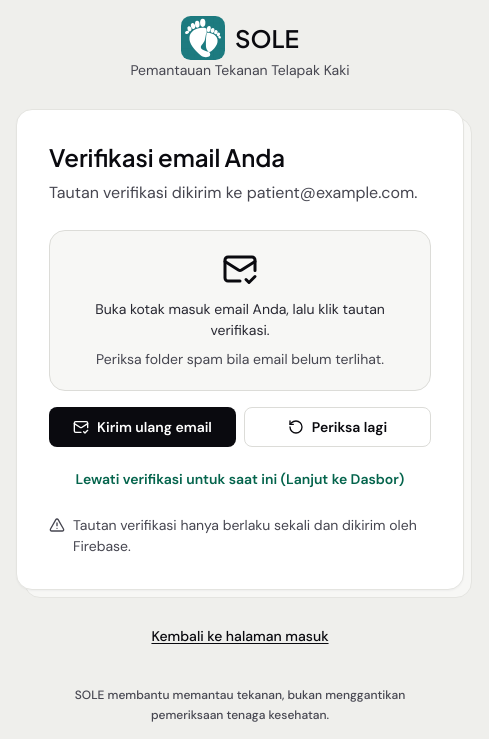
Test: VerifyEmailPage › shows the address Firebase mailed and offers a resend
Click the button "Kirim ulang email" at (142, 427), box left=49, top=407, right=236, bottom=447
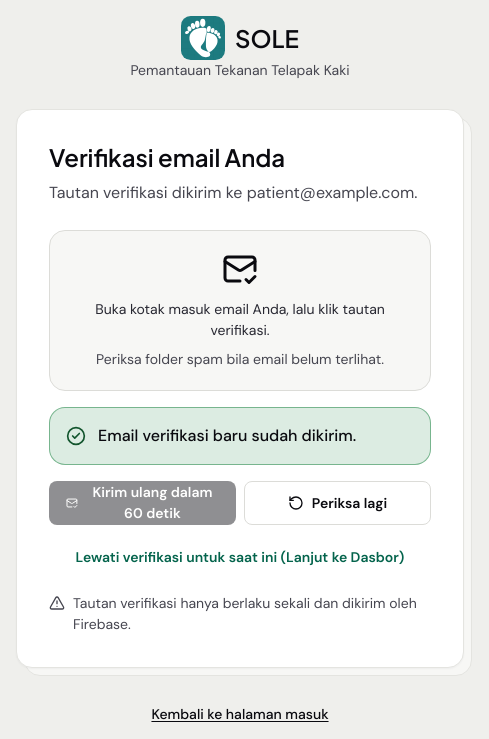
Result: the text "Email verifikasi baru sudah dikirim." is shown at left=98, top=425, right=356, bottom=446
